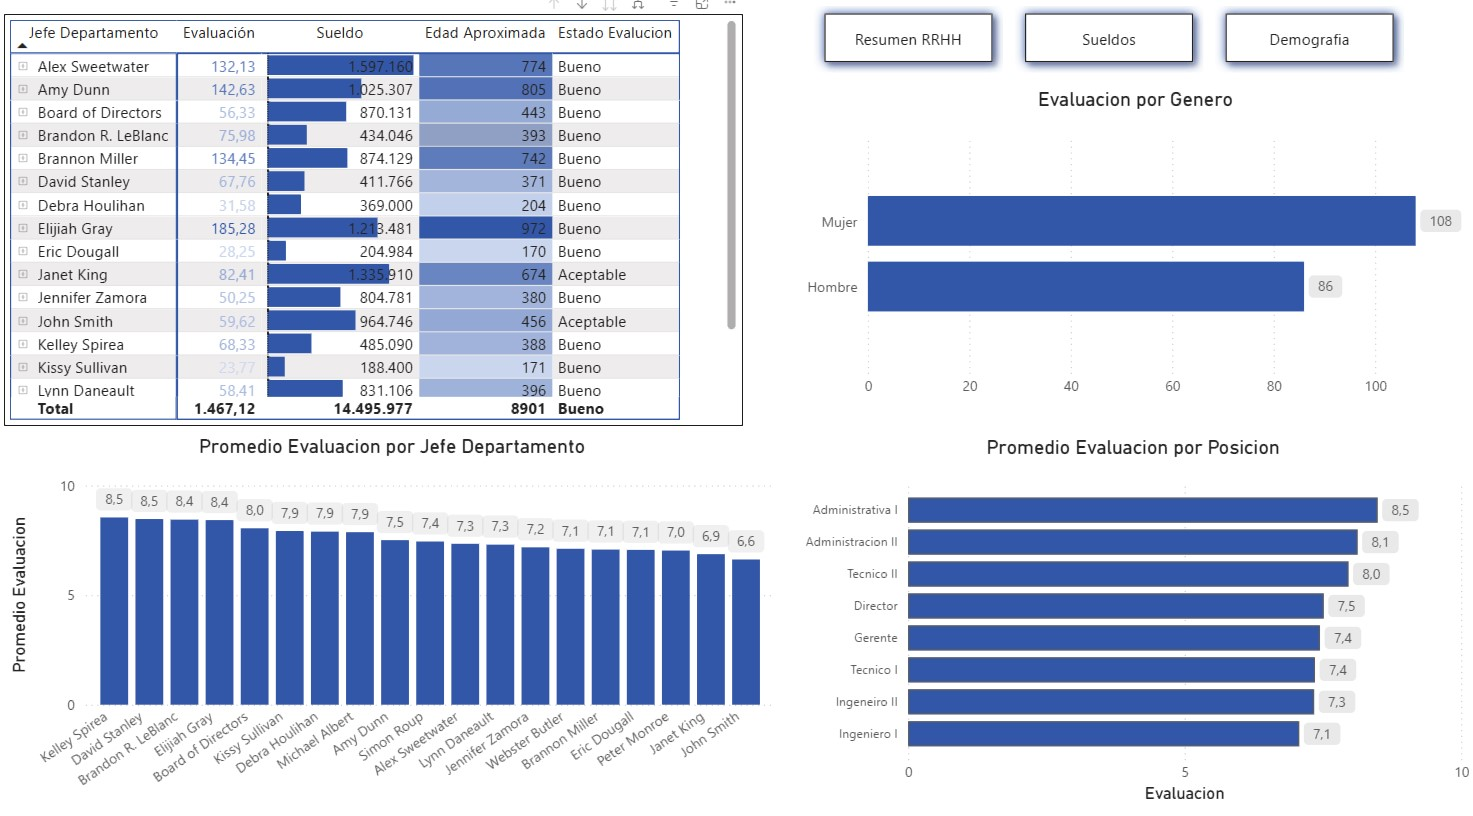

The page's visual inventory and layout, read from the dashboard file:
{"tool":"powerbi","page":{"name":"Evaluacion","canvas":[1280,720],"ordinal":1},"visuals":[{"type":"pivotTable","title":"df","fields":{"Rows":["Tabla1_2.Nombre_Jefe","Tabla1_2.Departamento","Tabla1_2.Nombre","Tabla1_2.Posicion"],"Values":["Sum(Tabla1_2.Evaluación)","Sum(Tabla1_2.Sueldo)","Sum(Tabla1_2.Edad_Aprox)","MEDIDAS.Estado Evalucion"]},"box":[11.2,20.7,637.4,355.4],"z":0},{"type":"columnChart","fields":{"Y":["MEDIDAS.Promedio_Evaluacion_por_Jefe"],"Category":["Tabla1_2.Nombre_Jefe"]},"box":[11.2,383.2,669.4,323.5],"z":1000},{"type":"clusteredBarChart","fields":{"Category":["Tabla1_2.Posicion"],"Y":["MEDIDAS.Promedio_Evalucion_por_Posicion"]},"box":[690,384,590,322],"z":2000},{"type":"clusteredBarChart","title":"Evalucion por Genero","fields":{"Y":["Tabla1_2.Empleados"],"Category":["Tabla1_2.Genero"]},"box":[694.3,83.7,585.5,276],"z":3000},{"type":"pageNavigator","box":[709.7,11.2,509,60.6],"z":4000}]}

Visuals, with their boxes in screenshot pixels (x1, y1, x2, y2), scaled from the page's 1280x720 canvas onto the 1473x816 screenshot:
"df" pivotTable: <bbox>13, 23, 746, 426</bbox>
columnChart - MEDIDAS.Promedio_Evaluacion_por_Jefe x Tabla1_2.Nombre_Jefe: <bbox>13, 434, 783, 801</bbox>
clusteredBarChart - Tabla1_2.Posicion x MEDIDAS.Promedio_Evalucion_por_Posicion: <bbox>794, 435, 1472, 800</bbox>
"Evalucion por Genero" clusteredBarChart: <bbox>799, 95, 1472, 408</bbox>
pageNavigator: <bbox>817, 13, 1402, 81</bbox>
